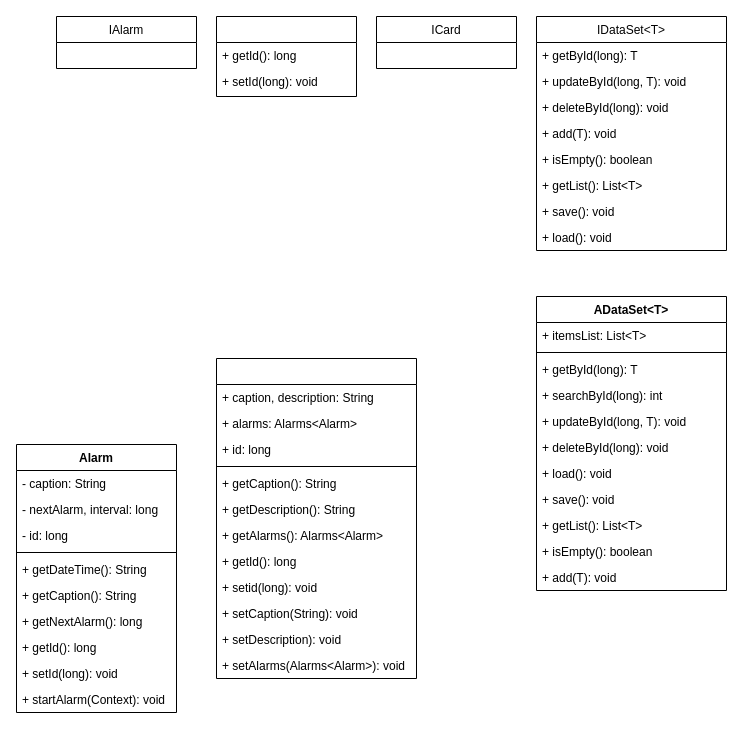
The diagram is 743 pixels wide and 729 high, and some of its shapes have lost their labels. Here are the shapes that lost their labels. From the top down, the box of each, then its label:
(216, 16, 356, 96): IUniqueItem
(216, 358, 416, 678): Card
